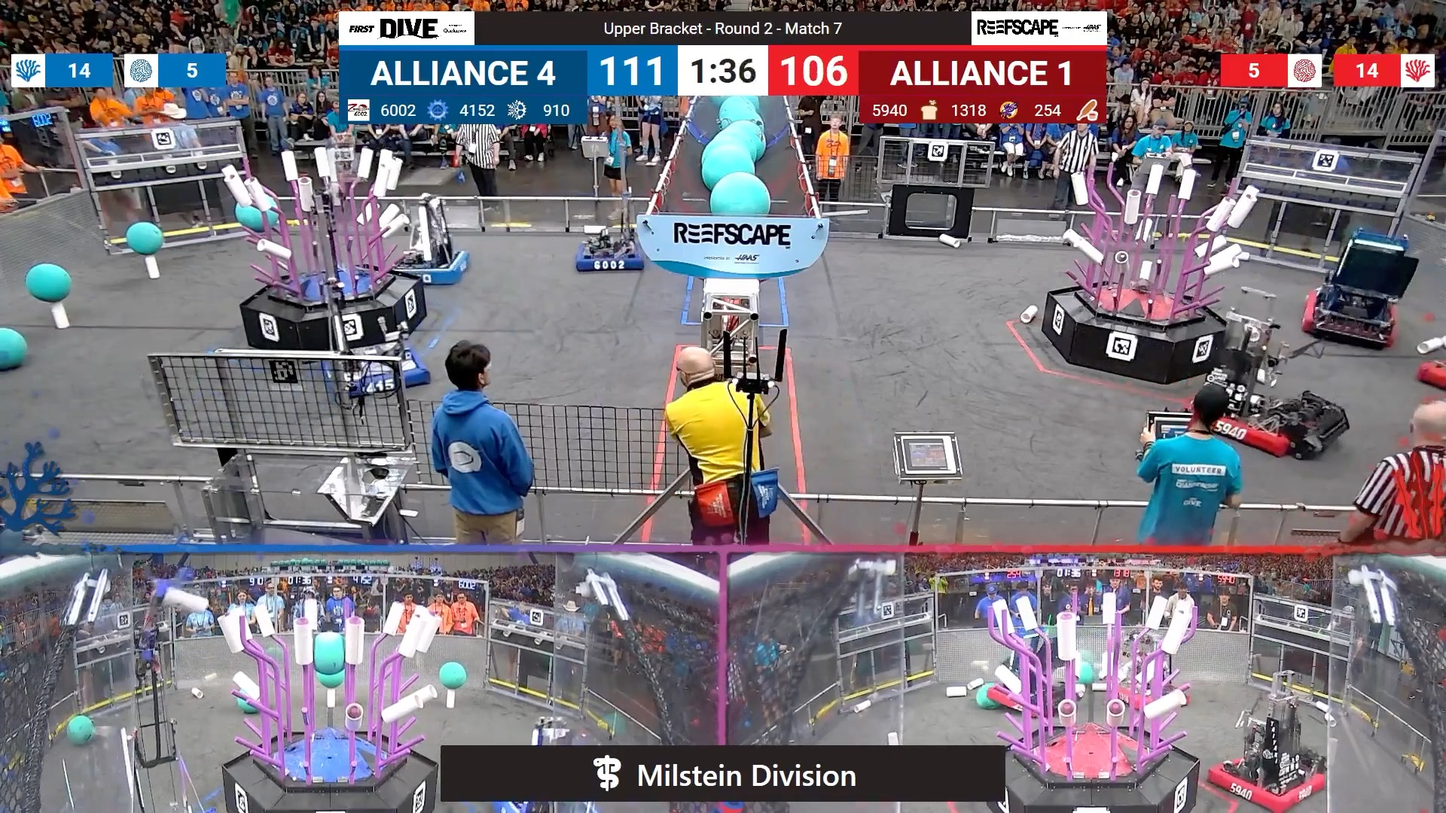bumpers: (1176, 389, 1347, 467), (1201, 753, 1335, 813), (1291, 288, 1401, 350), (320, 343, 438, 396), (382, 249, 473, 287), (571, 239, 655, 278), (1414, 350, 1446, 403)
